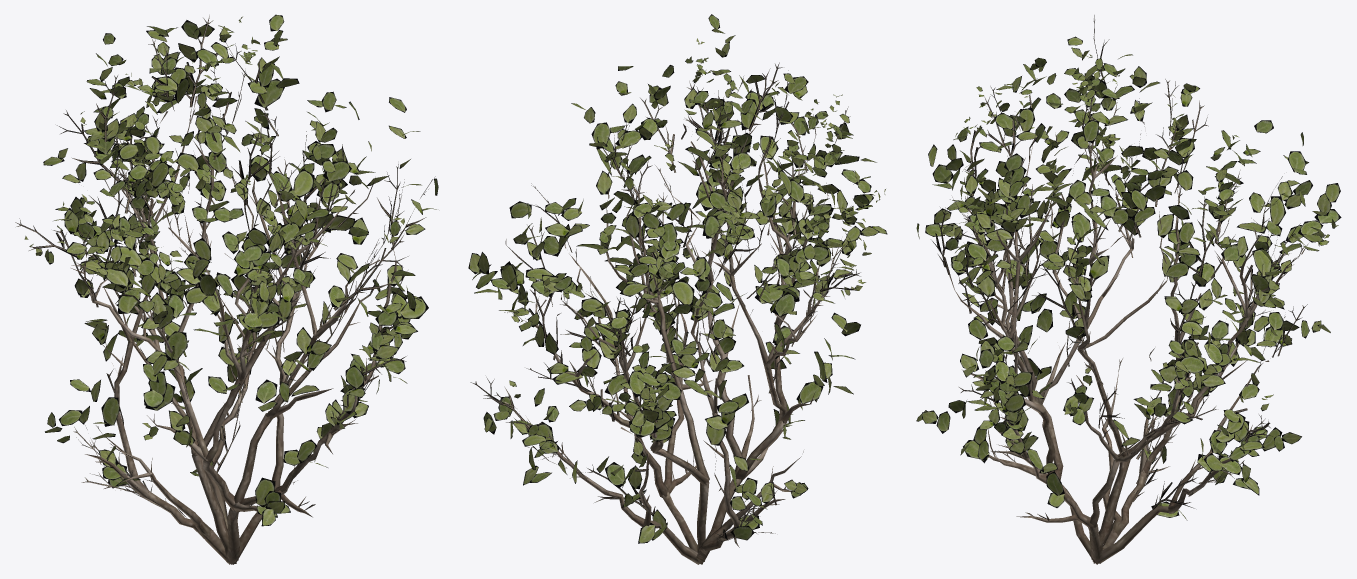
Rendered from arbuste_searsia_b_lod0.glb.
3 views of the same model, side by side, from view 1: azimuth 30°, elevation 25°; view 2: azimuth 150°, elevation 25°; view 3: azimuth 270°, elevation 25° (orthographic). The views are drawn at different scales.
Parts seen in each view (by area): view 1: searsia_lucida_b_LOD0; view 2: searsia_lucida_b_LOD0; view 3: searsia_lucida_b_LOD0.
Boxes of the visible parts, x1,y1,x2,y2 form: searsia_lucida_b_LOD0: (15, 14, 438, 564); searsia_lucida_b_LOD0: (468, 14, 887, 564); searsia_lucida_b_LOD0: (916, 15, 1341, 564).
Size of the model in its own units: 1.47 by 1.97 by 1.48.
2 materials, 2 textured.
